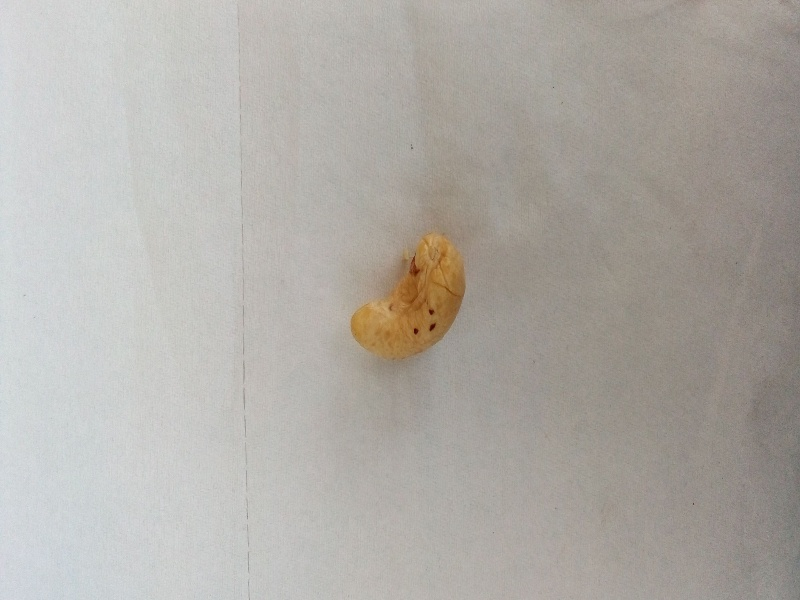cashew: (329, 222, 492, 368)
